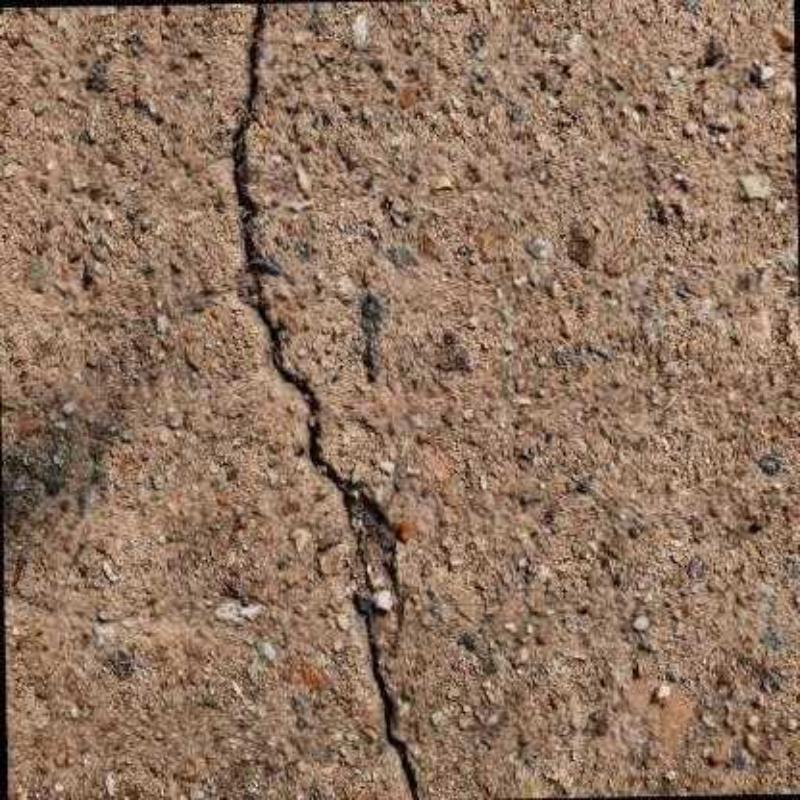crack: (233, 4, 420, 799)
